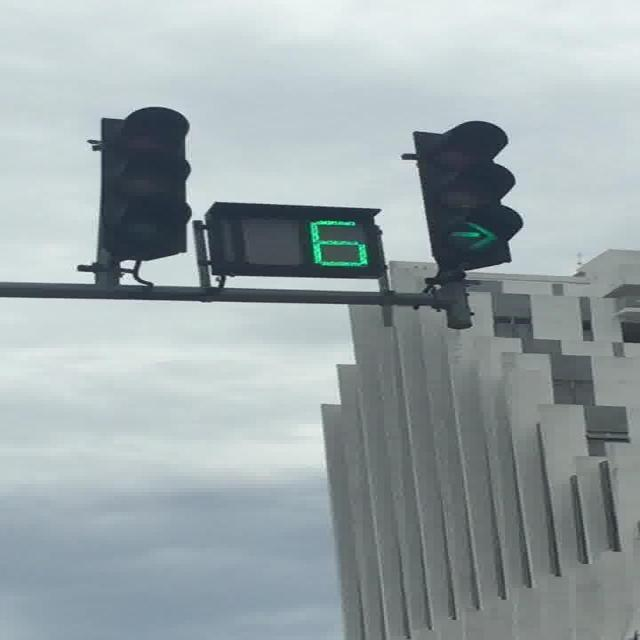traffic light: (413, 120, 523, 275), (99, 107, 192, 264), (204, 202, 385, 279)
